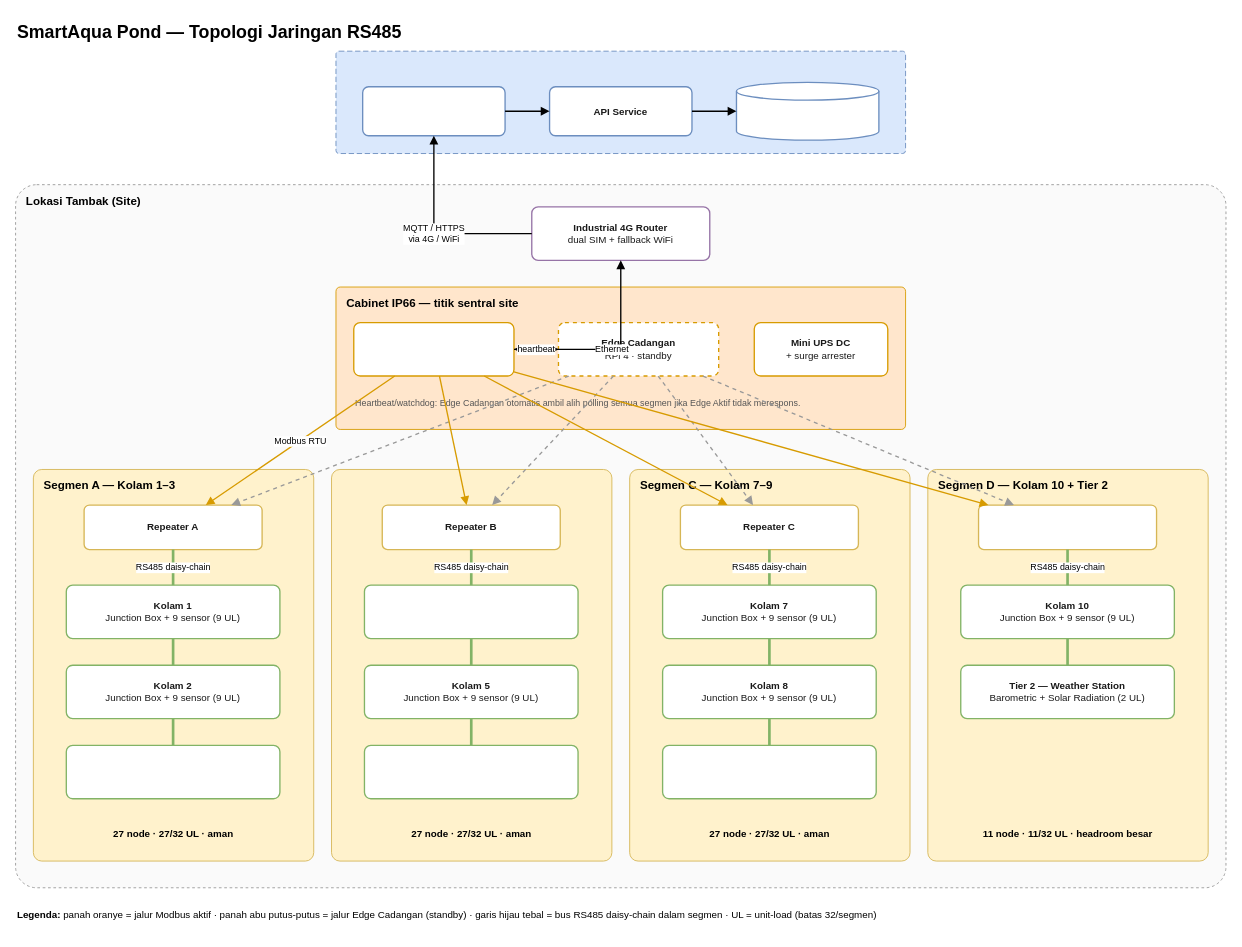
Some shapes in this 1242 by 947 pixel diagram are drawn without their labels. Each missing label, with the box of its shape:
Cloud / Backend Server (Tahap 2): (335, 50, 906, 154)
Edge Aktif RPi 4 · Modbus Master: (353, 322, 514, 376)
Kolam 3 Junction Box + 9 sensor (9 UL): (65, 744, 280, 799)
Kolam 4 Junction Box + 9 sensor (9 UL): (363, 584, 578, 639)
Kolam 6 Junction Box + 9 sensor (9 UL): (363, 744, 578, 799)
Kolam 9 Junction Box + 9 sensor (9 UL): (662, 744, 876, 799)
MQTT Broker: (362, 86, 505, 136)
Repeater D: (977, 504, 1157, 550)
Segmen B — Kolam 4–6: (331, 469, 612, 861)
Time-series DB: (735, 81, 879, 140)
